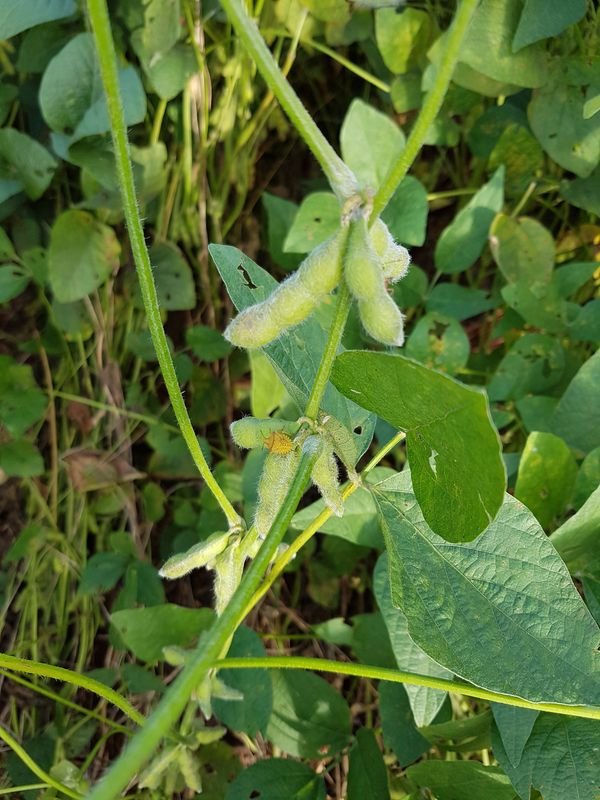Euschistus_heros_ninfa: (255, 423, 301, 462)
